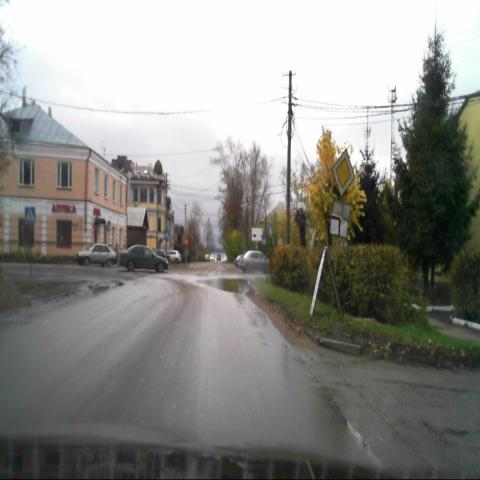8_13: (329, 200, 349, 238)
